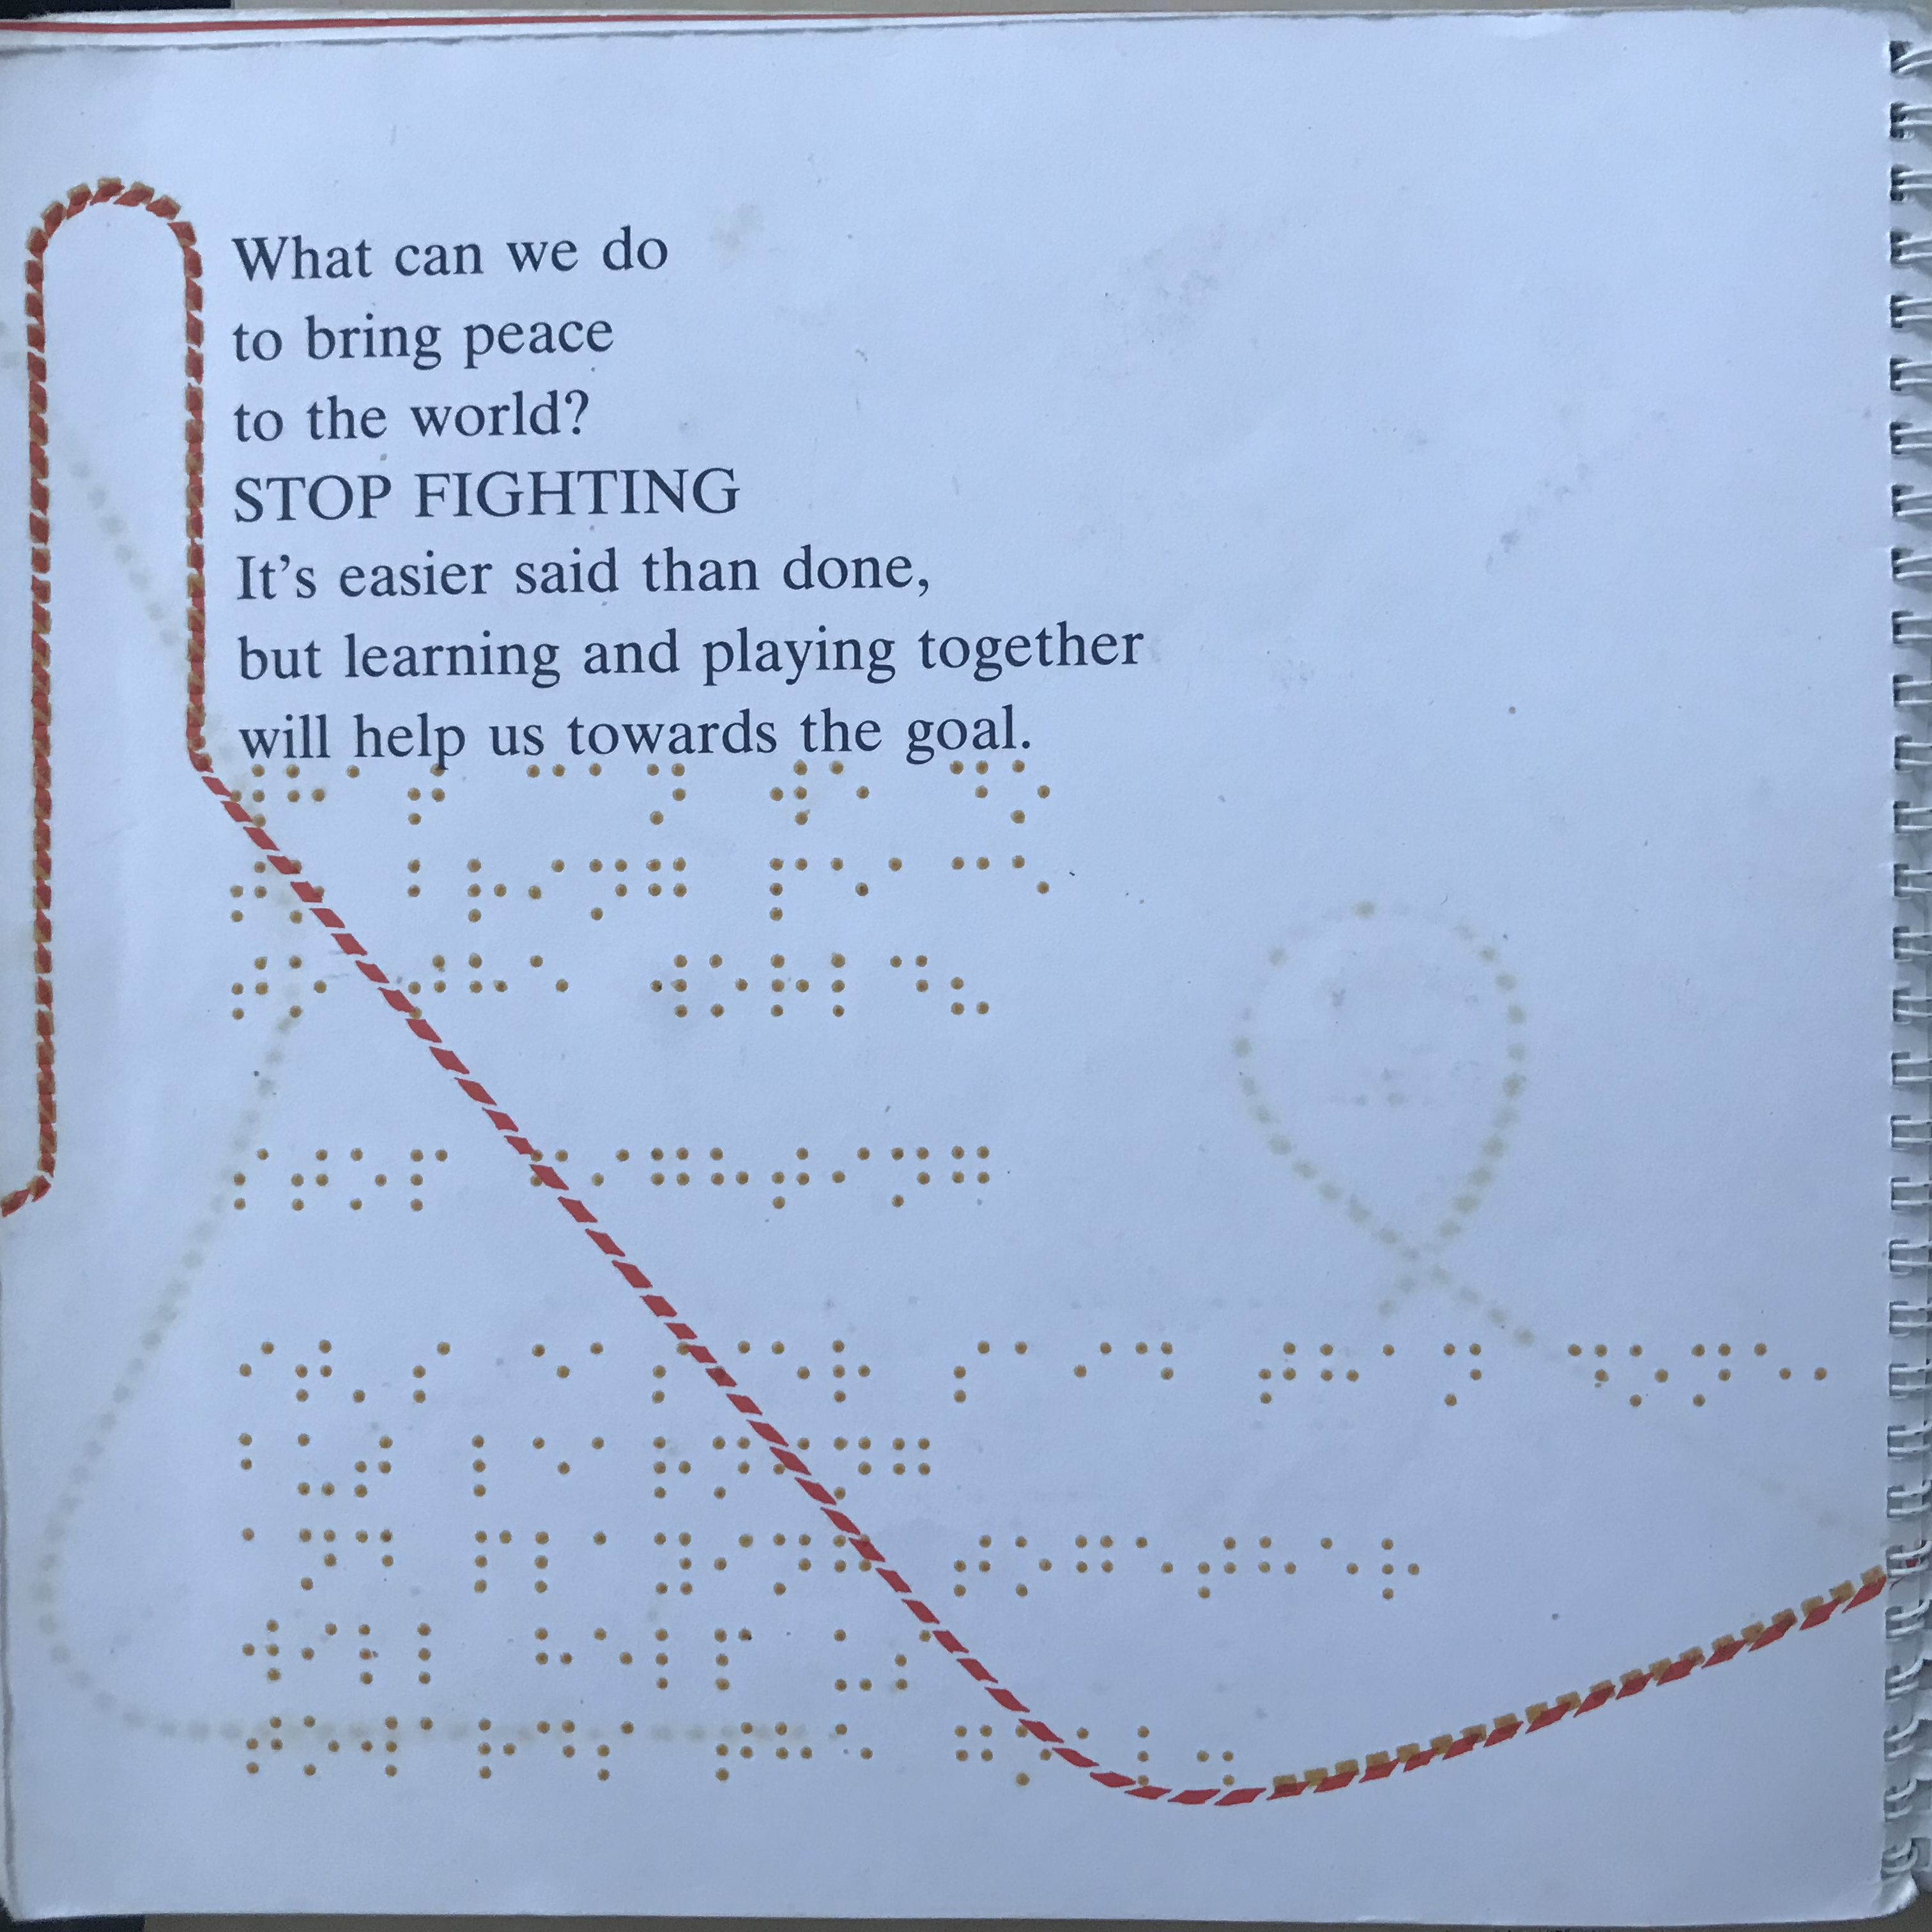Braille: (1690, 1338, 1736, 1415), (945, 1338, 994, 1408), (768, 757, 816, 830), (830, 1624, 876, 1698), (1134, 1532, 1178, 1608), (826, 757, 872, 830), (648, 1339, 697, 1407), (950, 952, 996, 1023), (403, 763, 451, 830), (644, 761, 692, 828), (644, 853, 692, 920), (283, 761, 327, 833), (947, 754, 991, 826), (409, 1145, 453, 1217), (1442, 1338, 1486, 1410), (1566, 1338, 1610, 1410), (241, 1615, 285, 1688), (1136, 1723, 1182, 1792), (1010, 754, 1053, 828), (467, 952, 510, 1026), (226, 955, 271, 1026), (648, 1139, 692, 1210), (407, 1336, 451, 1407), (711, 1433, 755, 1504), (892, 1626, 936, 1697), (474, 1714, 518, 1785), (651, 1530, 697, 1598), (649, 954, 692, 1026), (347, 1145, 389, 1217), (771, 1143, 814, 1215), (1074, 1338, 1116, 1410), (711, 1624, 754, 1697), (416, 1621, 460, 1690), (533, 1714, 580, 1778), (1320, 1338, 1359, 1415), (1134, 1336, 1175, 1410), (1258, 1338, 1299, 1412), (524, 1143, 570, 1208), (228, 761, 271, 832), (525, 856, 568, 927), (709, 1338, 752, 1408), (771, 1336, 814, 1407), (593, 1624, 635, 1695), (1194, 1725, 1237, 1796), (586, 858, 630, 925), (713, 1720, 757, 1787), (1258, 1532, 1297, 1608), (287, 856, 327, 929), (228, 856, 271, 925), (1012, 1534, 1054, 1603), (416, 1714, 458, 1783), (952, 1720, 994, 1789), (531, 952, 570, 1026), (1812, 1341, 1851, 1415), (230, 1145, 271, 1215), (832, 1338, 872, 1408), (297, 1431, 338, 1502), (651, 1431, 692, 1502), (833, 1532, 874, 1603), (830, 856, 872, 924), (405, 955, 448, 1023), (708, 952, 750, 1019), (830, 952, 872, 1019), (294, 1339, 336, 1407), (832, 1435, 874, 1502), (952, 1534, 994, 1601), (533, 1624, 575, 1691), (1201, 1532, 1238, 1608), (771, 950, 810, 1023), (587, 1338, 626, 1410), (1014, 1338, 1053, 1410), (403, 858, 444, 927), (467, 856, 508, 925), (709, 1143, 750, 1212), (1629, 1341, 1670, 1410), (773, 1433, 814, 1502), (713, 1529, 754, 1598), (773, 1532, 814, 1601), (1074, 1534, 1115, 1603), (1380, 1534, 1421, 1603), (1014, 1721, 1054, 1790), (345, 763, 384, 833), (1753, 1341, 1792, 1412), (534, 1527, 573, 1598), (347, 1341, 387, 1408), (893, 1435, 934, 1502), (299, 1619, 340, 1686), (1077, 1720, 1118, 1787), (591, 1141, 630, 1210), (1320, 1534, 1359, 1603), (357, 1619, 396, 1688), (596, 1716, 635, 1785), (288, 1146, 329, 1212), (892, 1145, 932, 1210), (531, 1339, 571, 1405), (297, 1527, 338, 1592), (354, 1527, 395, 1592), (246, 1713, 287, 1778), (773, 1721, 814, 1787), (835, 1720, 876, 1785), (832, 1139, 869, 1210), (1380, 1338, 1415, 1412), (952, 1145, 991, 1212), (354, 1433, 393, 1500), (474, 1529, 513, 1596), (361, 1714, 400, 1782), (770, 856, 810, 920), (658, 1624, 694, 1697), (1014, 851, 1051, 920), (471, 1431, 508, 1500), (304, 1713, 341, 1782), (890, 952, 929, 1017), (525, 759, 566, 821), (888, 853, 925, 920), (952, 856, 991, 920), (290, 957, 327, 1023), (533, 1431, 570, 1497), (593, 1532, 630, 1598), (589, 757, 626, 821), (239, 1339, 276, 1403), (235, 1428, 272, 1490), (591, 1435, 628, 1497), (241, 1525, 276, 1587)
